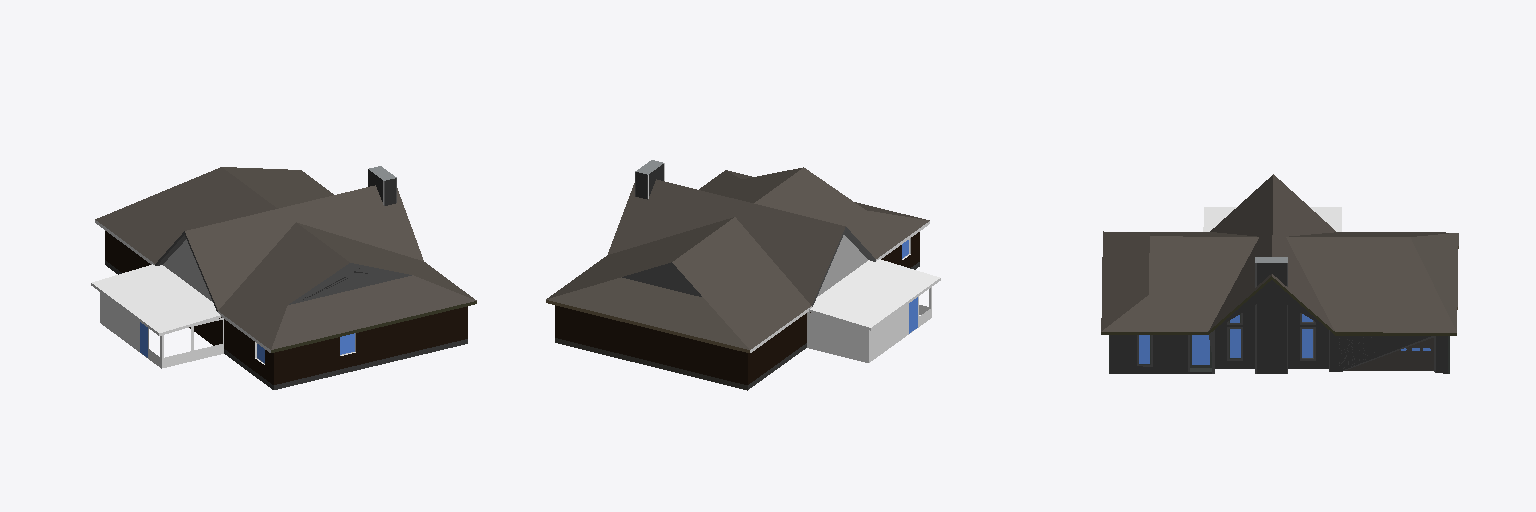
Rendered from Betty'sHouseDark.obj.
3 views of the same model, side by side, from view 1: azimuth 30°, elevation 25°; view 2: azimuth 150°, elevation 25°; view 3: azimuth 270°, elevation 25° (orthographic).
Visible parts, largest first — view 1: Mesh15 Model; view 2: Mesh15 Model; view 3: Mesh15 Model, Mesh4 Group1_1_1 Model, Mesh2 Group2_1_1 Model.
Part boxes in pixels (x1,y1,x2,y2): Mesh15 Model: (91, 166, 476, 389); Mesh15 Model: (546, 160, 940, 390); Mesh15 Model: (1101, 174, 1458, 373); Mesh4 Group1_1_1 Model: (1345, 338, 1433, 370); Mesh2 Group2_1_1 Model: (1192, 335, 1209, 364).
Bounding box in the file's own units: 644 × 255 × 740.